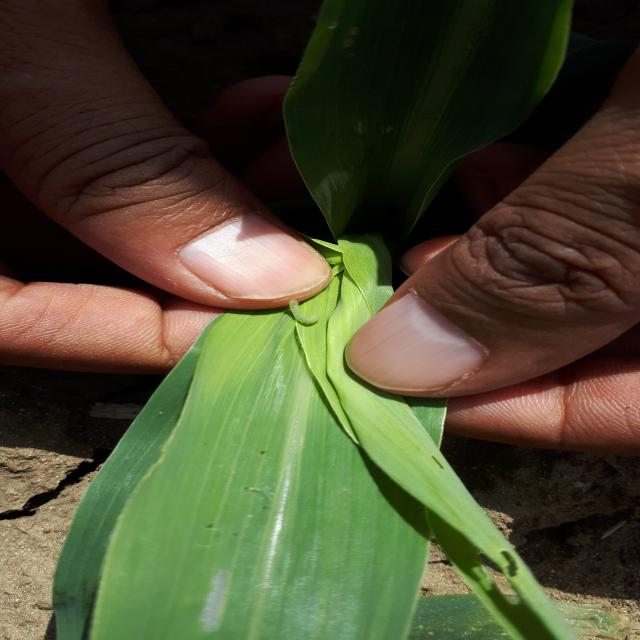armyworm: (275, 296, 327, 337)
